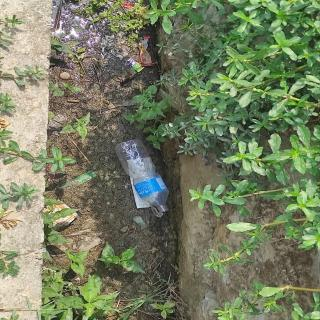Plastic-bottle: (113, 137, 177, 217)
